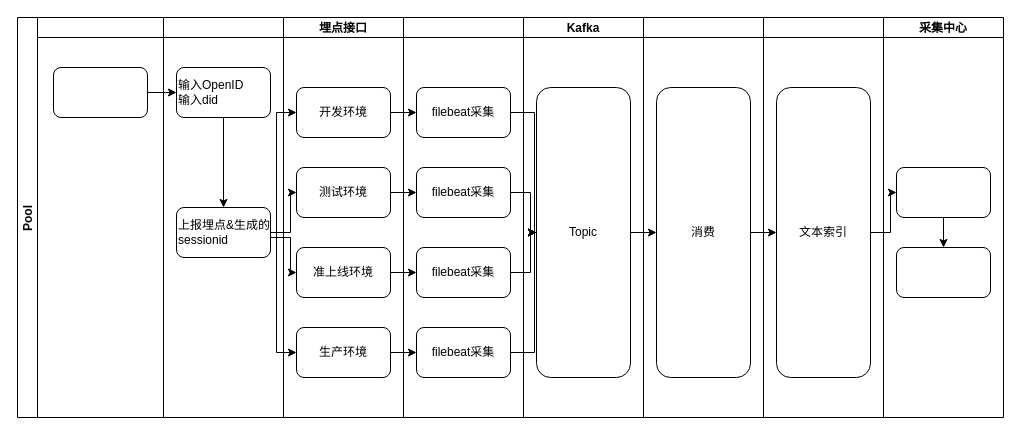
Image size: 1021x435. Some labels were removed from this diagram. The box of each missing label's shape, as (x1, y1, x2, y2) in pixels:
abd命令: (52, 66, 148, 118)
ES: (762, 16, 884, 418)
Flink: (642, 16, 764, 418)
Openresty: (402, 16, 524, 418)
测试同事: (36, 16, 164, 418)
测试报告: (896, 246, 990, 298)
测试校验: (896, 166, 990, 218)
车端SDK: (162, 16, 284, 418)
